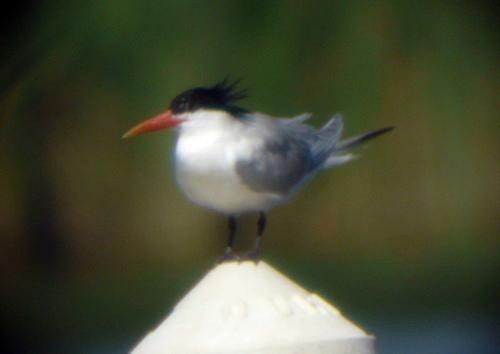bird: (112, 76, 393, 266)
